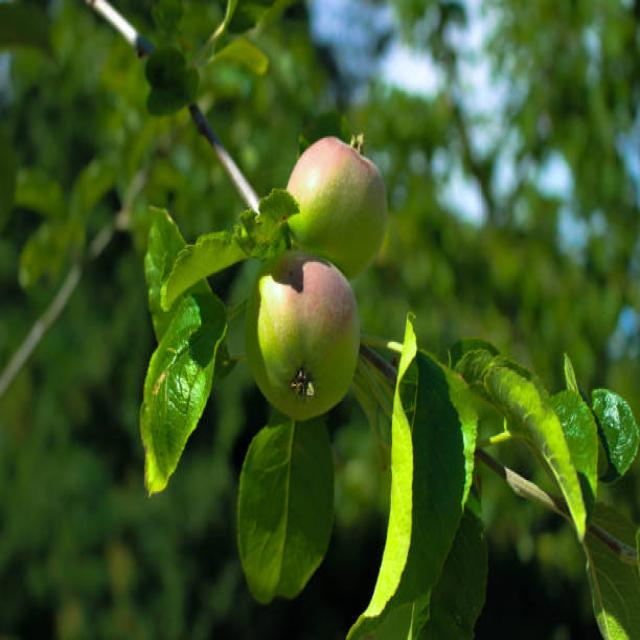Unripe: (241, 250, 361, 421), (285, 134, 390, 280)
